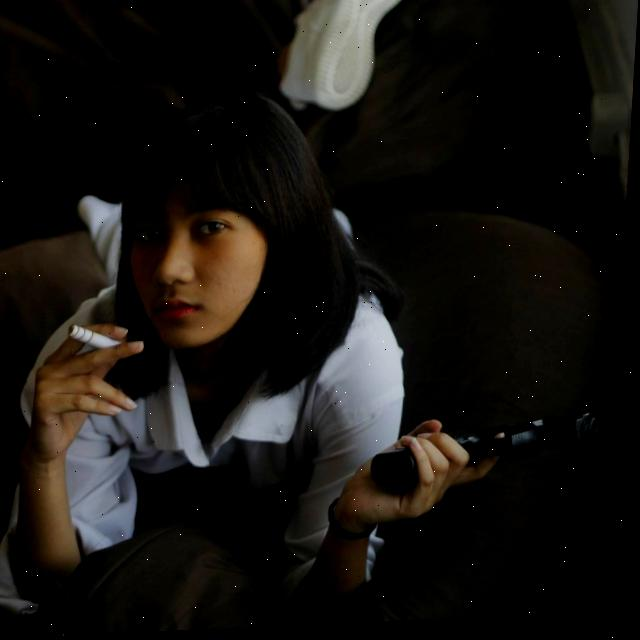cigarette: (71, 323, 127, 351)
